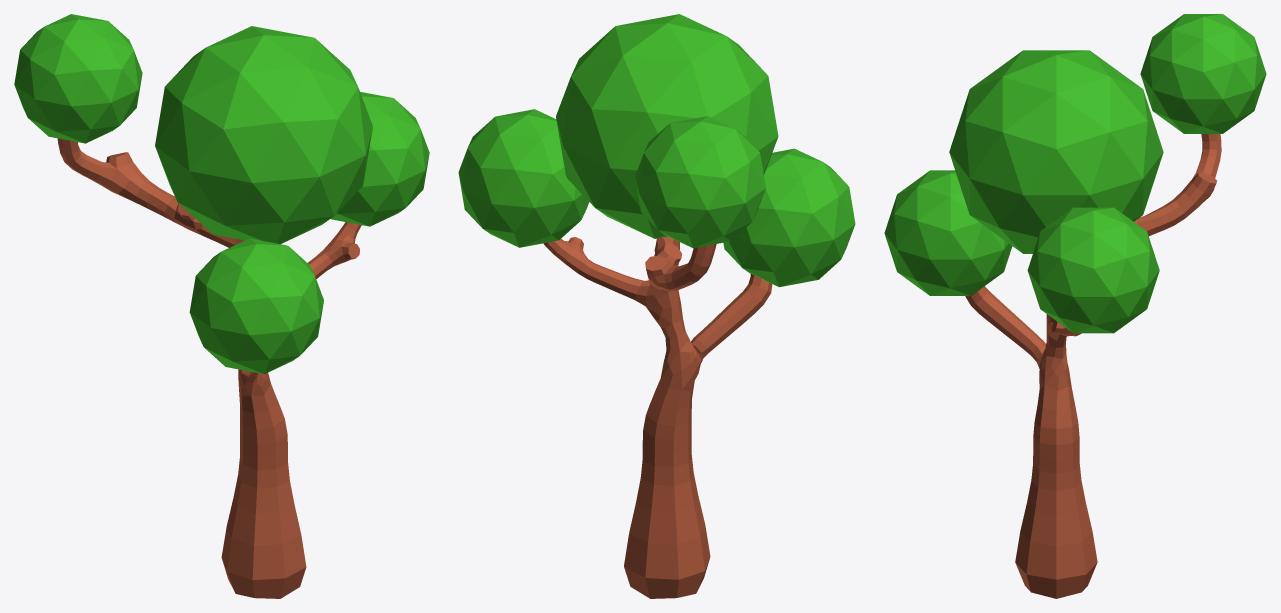
File: TreeV3.fbx
The picture shows the model from 3 angles, left to right: view 1: azimuth 30°, elevation 25°; view 2: azimuth 150°, elevation 25°; view 3: azimuth 270°, elevation 25°; orthographic projection. The views are drawn at different scales.
Parts seen in each view (by area): view 1: Tree; view 2: Tree; view 3: Tree.
Boxes of the visible parts, <box> form: Tree: <box>14,14,429,598</box>; Tree: <box>458,14,855,598</box>; Tree: <box>884,14,1266,598</box>.
Bounding box in the file's own units: 754 × 1196 × 768.
